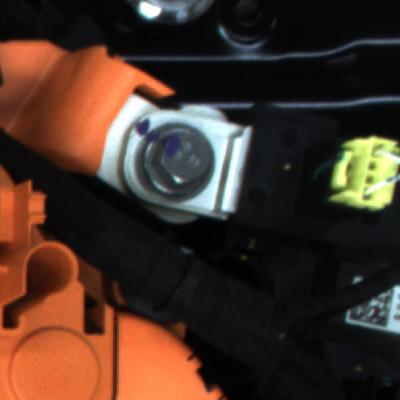nut_b: (122, 117, 229, 207)
